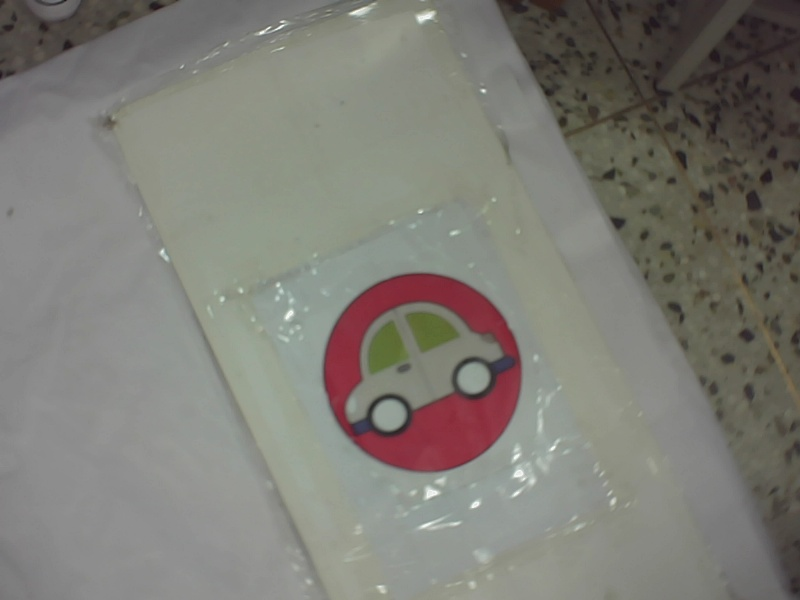areaC: (313, 266, 533, 484)
